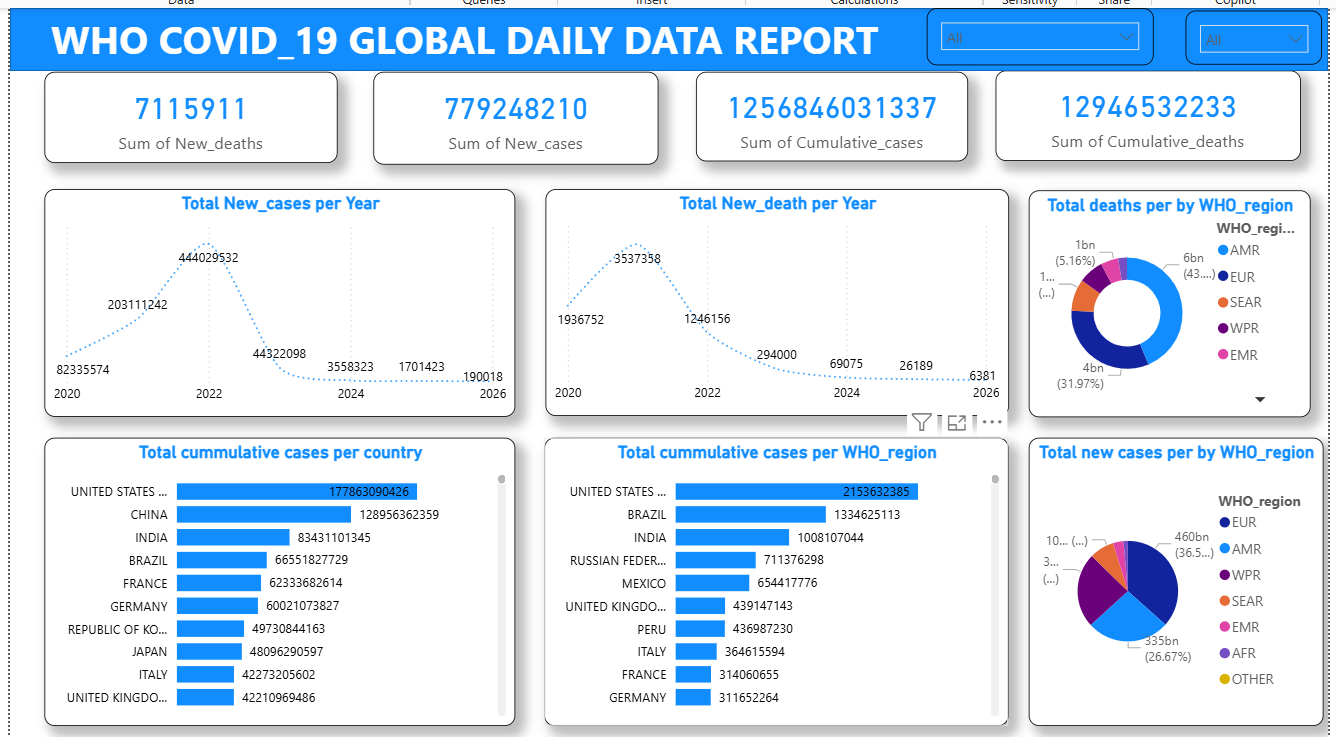

What the dashboard file says about the page in this screenshot:
{"tool":"powerbi","page":{"name":"Page 1","canvas":[1280,720],"ordinal":0},"visuals":[{"type":"lineChart","title":" Total New_cases per Year","fields":{"Y":["Sum(WHO_COVID_19_global_daily_data__4.New_cases)"],"Category":["WHO_COVID_19_global_daily_data__4.Date_reported.Variation.Date Hierarchy.Year"]},"box":[33.8,176.2,457.5,221.2],"z":0},{"type":"card","fields":{"Values":["Sum(WHO_COVID_19_global_daily_data__4.New_deaths)"]},"box":[33.8,62.5,285,88.8],"z":1000},{"type":"card","fields":{"Values":["Sum(WHO_COVID_19_global_daily_data__4.New_cases)"]},"box":[352.9,61.4,277.1,90],"z":2000},{"type":"card","fields":{"Values":["Sum(WHO_COVID_19_global_daily_data__4.Cumulative_cases)"]},"box":[665.7,61.4,264.3,87.1],"z":3000},{"type":"card","fields":{"Values":["Sum(WHO_COVID_19_global_daily_data__4.Cumulative_deaths)"]},"box":[957.5,61.2,296.2,87.5],"z":4000},{"type":"lineChart","title":" Total New_death per Year","fields":{"Y":["Sum(WHO_COVID_19_global_daily_data__4.New_deaths)"],"Category":["WHO_COVID_19_global_daily_data__4.Date_reported.Variation.Date Hierarchy.Year"]},"box":[520,176.2,450,220],"z":5000},{"type":"barChart","title":"Total cummulative cases per country","fields":{"Category":["WHO_COVID_19_global_daily_data__4.Country"],"Y":["Sum(WHO_COVID_19_global_daily_data__4.Cumulative_cases)"]},"box":[33.8,417.5,457.5,280],"z":6000},{"type":"clusteredBarChart","title":"Total cummulative cases per WHO_region","fields":{"Category":["WHO_COVID_19_global_daily_data__4.Country"],"Y":["Sum(WHO_COVID_19_global_daily_data__4.Cumulative_deaths)"]},"box":[518.8,417.5,451.2,280],"z":7000},{"type":"donutChart","title":"Total deaths per by WHO_region","fields":{"Y":["Sum(WHO_COVID_19_global_daily_data__4.Cumulative_deaths)"],"Category":["WHO_COVID_19_global_daily_data__4.WHO_region"]},"box":[989.3,177.1,273.6,220.4],"z":8000},{"type":"pieChart","title":"Total new cases per by WHO_region","fields":{"Y":["Sum(WHO_COVID_19_global_daily_data__4.Cumulative_cases)"],"Category":["WHO_COVID_19_global_daily_data__4.WHO_region"]},"box":[988.8,417.5,286.2,280],"z":9000},{"type":"shape","box":[0,0,1280,61.1],"z":10000},{"type":"textbox","box":[25,0,863.8,61.2],"z":11000},{"type":"slicer","fields":{"Values":["WHO_COVID_19_global_daily_data__4.Date_reported.Variation.Date Hierarchy.Year"]},"box":[1141.4,2.9,132.9,52.9],"z":12000},{"type":"slicer","fields":{"Values":["WHO_COVID_19_global_daily_data__4.WHO_region"]},"box":[890,0,220,55.7],"z":13000}]}

Visuals, with their boxes on the page's 1280x720 design canvas (x1, y1, x2, y2). These are canvas units, not pixel positions in the 1336x737 screenshot, which may show the page scaled, cropped or inside an application window:
" Total New_cases per Year" lineChart: [left=34, top=176, right=491, bottom=397]
card - Sum(WHO_COVID_19_global_daily_data__4.New_deaths): [left=34, top=62, right=319, bottom=151]
card - Sum(WHO_COVID_19_global_daily_data__4.New_cases): [left=353, top=61, right=630, bottom=151]
card - Sum(WHO_COVID_19_global_daily_data__4.Cumulative_cases): [left=666, top=61, right=930, bottom=148]
card - Sum(WHO_COVID_19_global_daily_data__4.Cumulative_deaths): [left=958, top=61, right=1254, bottom=149]
" Total New_death per Year" lineChart: [left=520, top=176, right=970, bottom=396]
"Total cummulative cases per country" barChart: [left=34, top=418, right=491, bottom=698]
"Total cummulative cases per WHO_region" clusteredBarChart: [left=519, top=418, right=970, bottom=698]
"Total deaths per by WHO_region" donutChart: [left=989, top=177, right=1263, bottom=398]
"Total new cases per by WHO_region" pieChart: [left=989, top=418, right=1275, bottom=698]
shape: [left=0, top=0, right=1280, bottom=61]
textbox: [left=25, top=0, right=889, bottom=61]
slicer - WHO_COVID_19_global_daily_data__4.Date_reported.Variation.Date Hierarchy.Year: [left=1141, top=3, right=1274, bottom=56]
slicer - WHO_COVID_19_global_daily_data__4.WHO_region: [left=890, top=0, right=1110, bottom=56]
